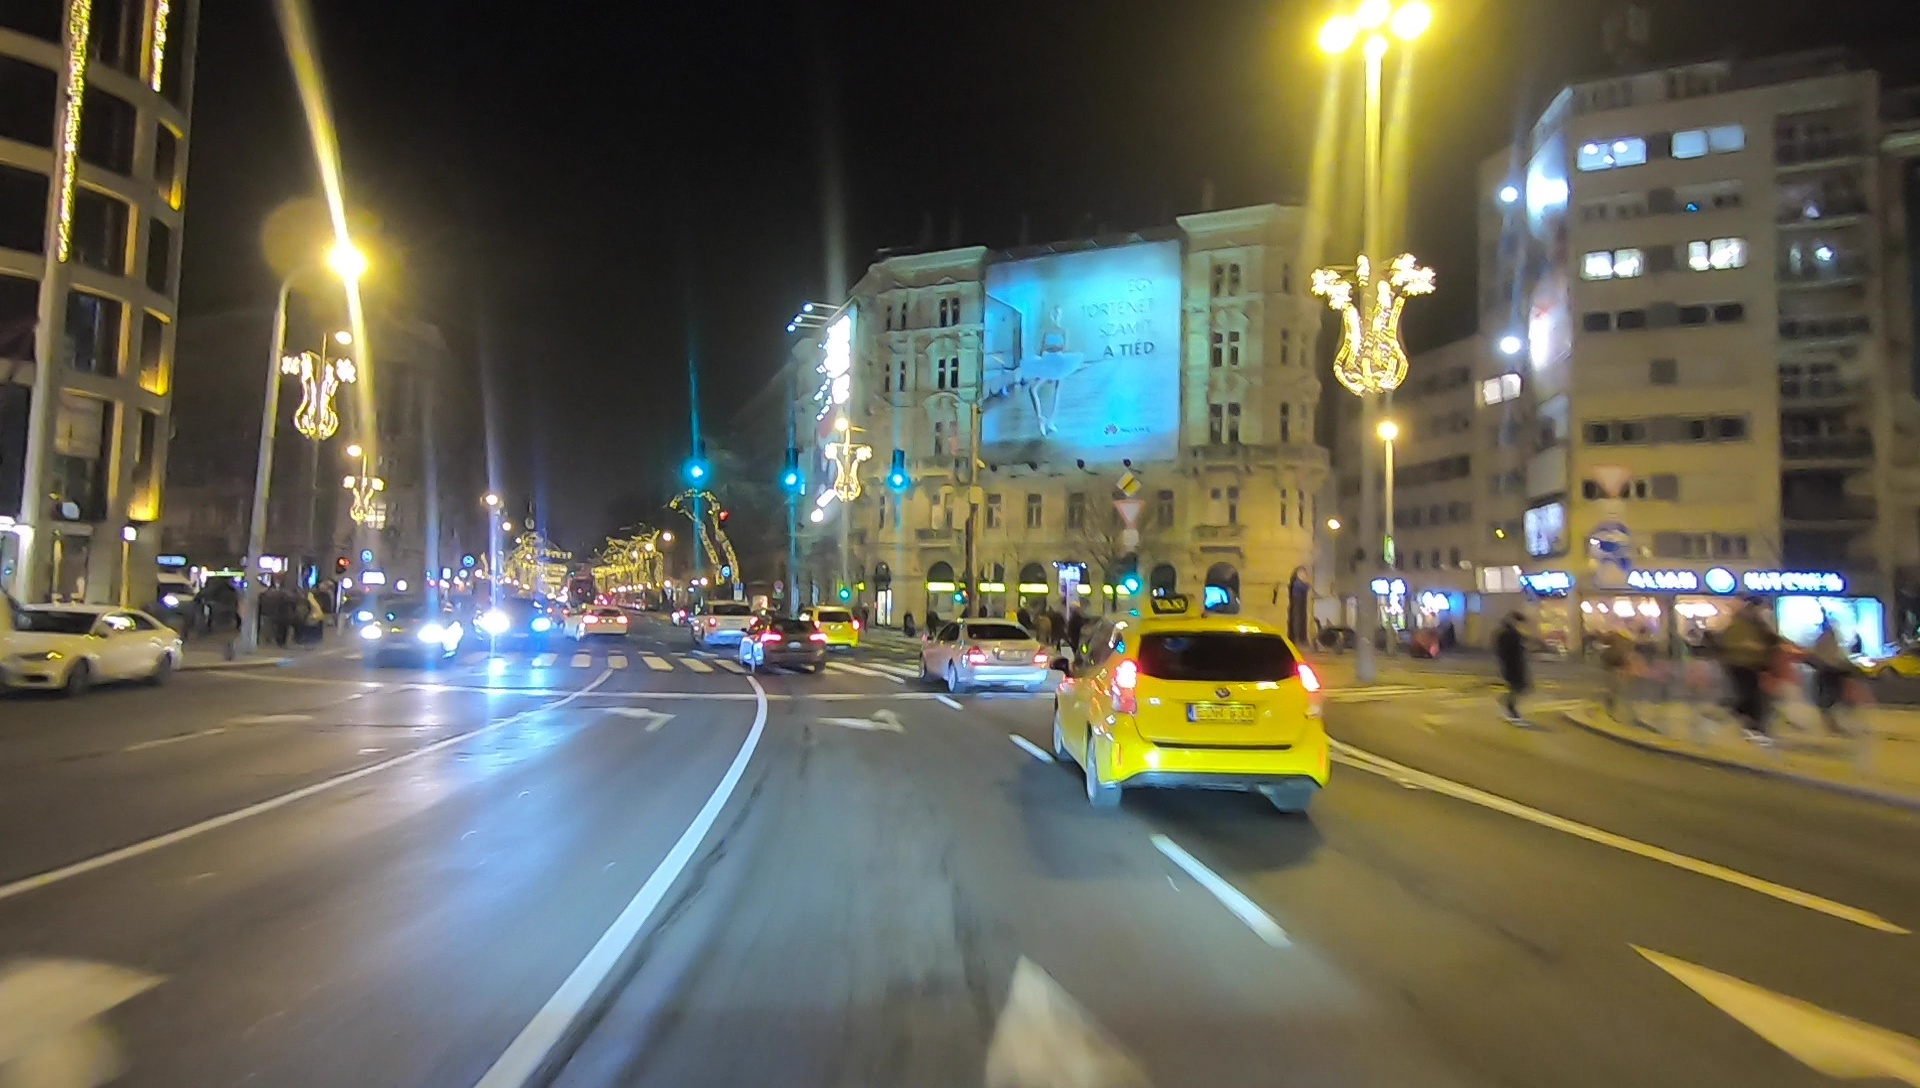person: (1723, 599, 1776, 747), (1802, 610, 1856, 747), (1486, 602, 1532, 724)
